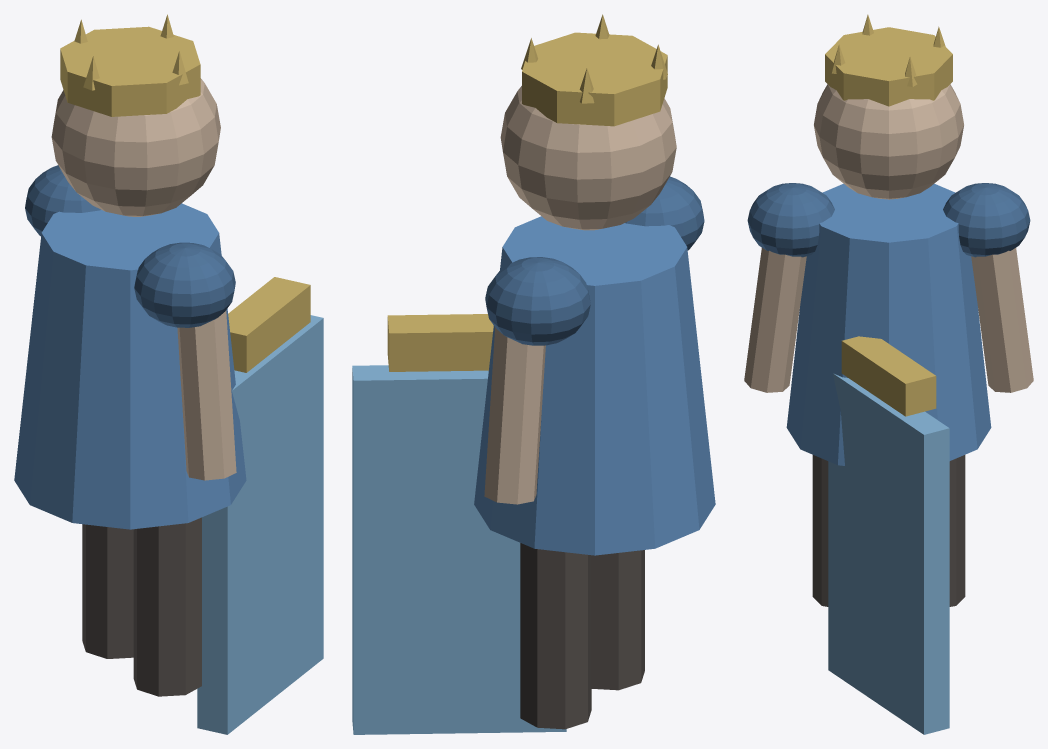
Rendered from hero_aldar_2.glb.
3 views of the same model, side by side, from view 1: azimuth 30°, elevation 25°; view 2: azimuth 150°, elevation 25°; view 3: azimuth 270°, elevation 25° (orthographic). The views are drawn at different scales.
Visible parts, largest first — view 1: figurka; view 2: figurka; view 3: figurka.
Boxes of the visible parts, box(x1,y1,x2,y2) form: figurka: box(14, 14, 323, 734); figurka: box(352, 14, 715, 734); figurka: box(744, 14, 1033, 734).
Bounding box in the file's own units: 0.5305 × 1.12 × 0.4814.
